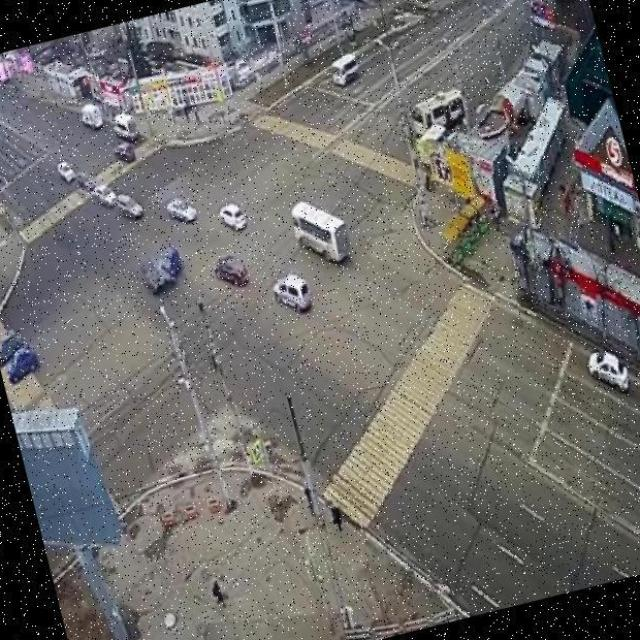accident: (135, 243, 189, 299)
